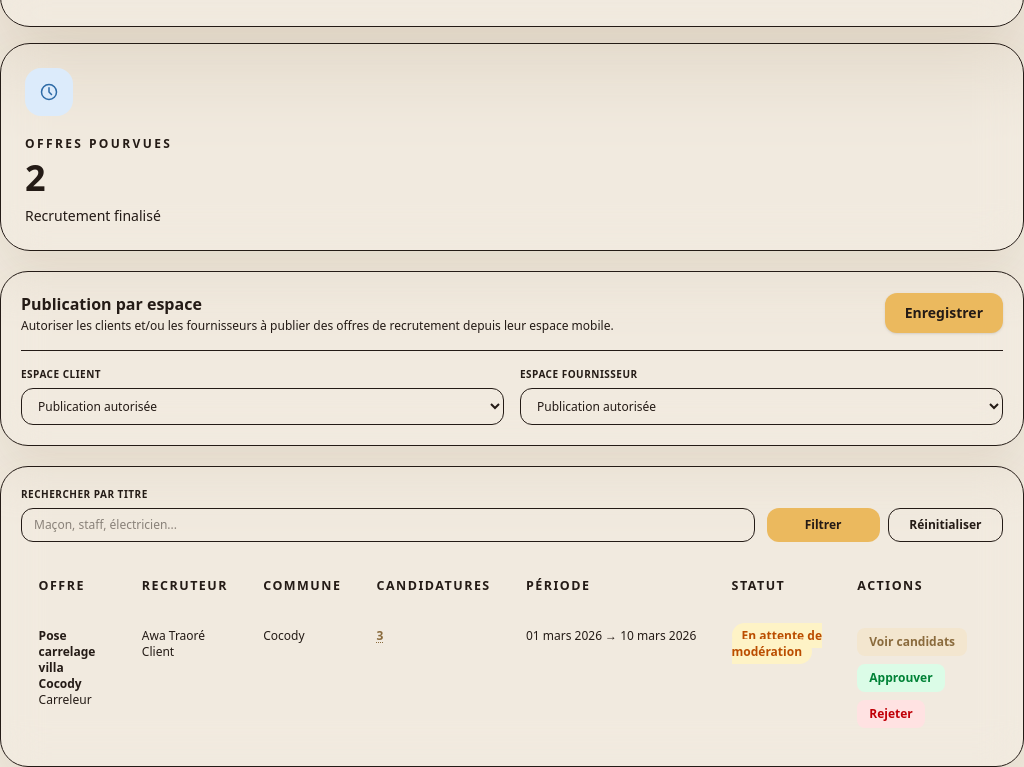
Test: RecruitmentPanel › ouvre la modale des candidatures et charge la liste
(page scrolled)
Click the button "3".
click(380, 636)  # box [377, 628, 384, 644]
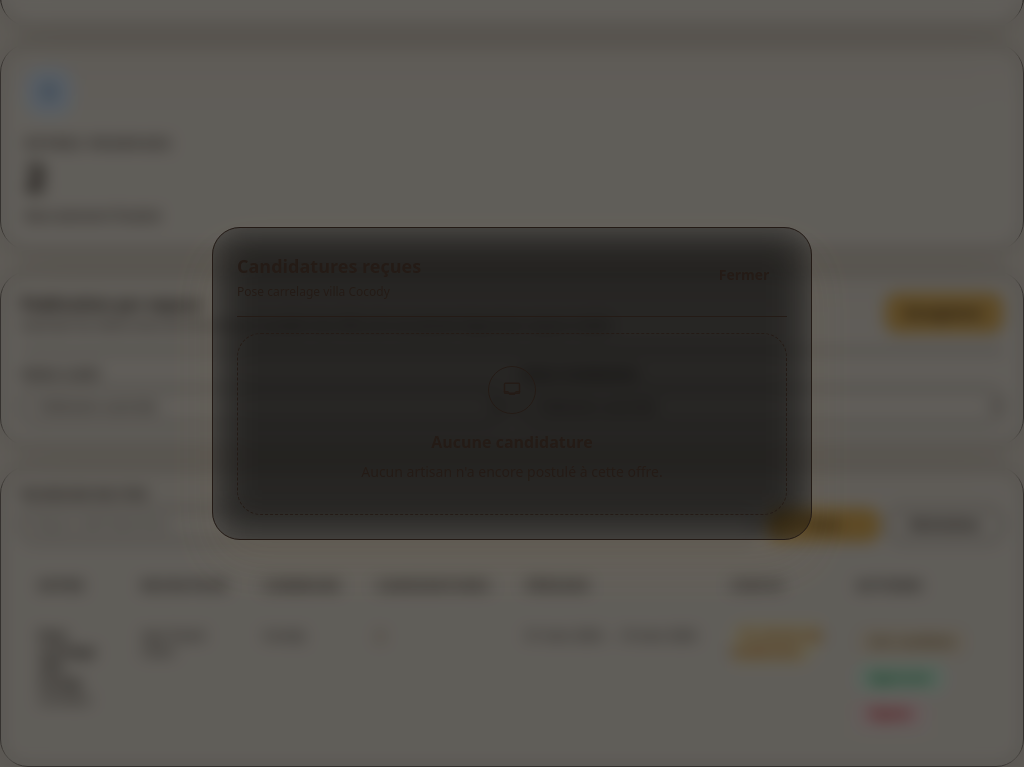
Expected: the heading "Candidatures reçues" is shown, [237, 252, 421, 280]
